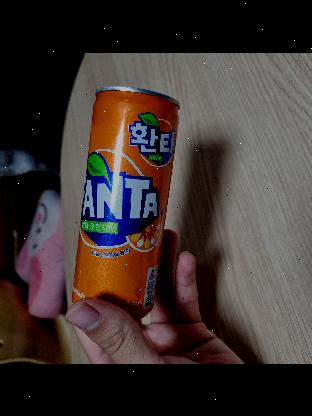Can: (52, 89, 186, 323)
